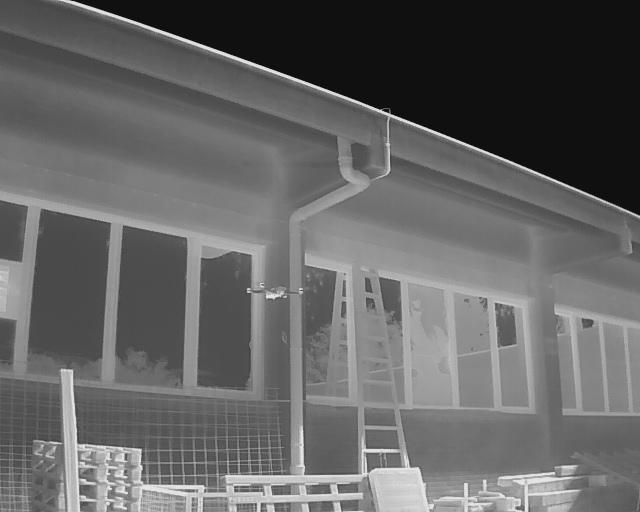drone: (236, 270, 311, 314)
